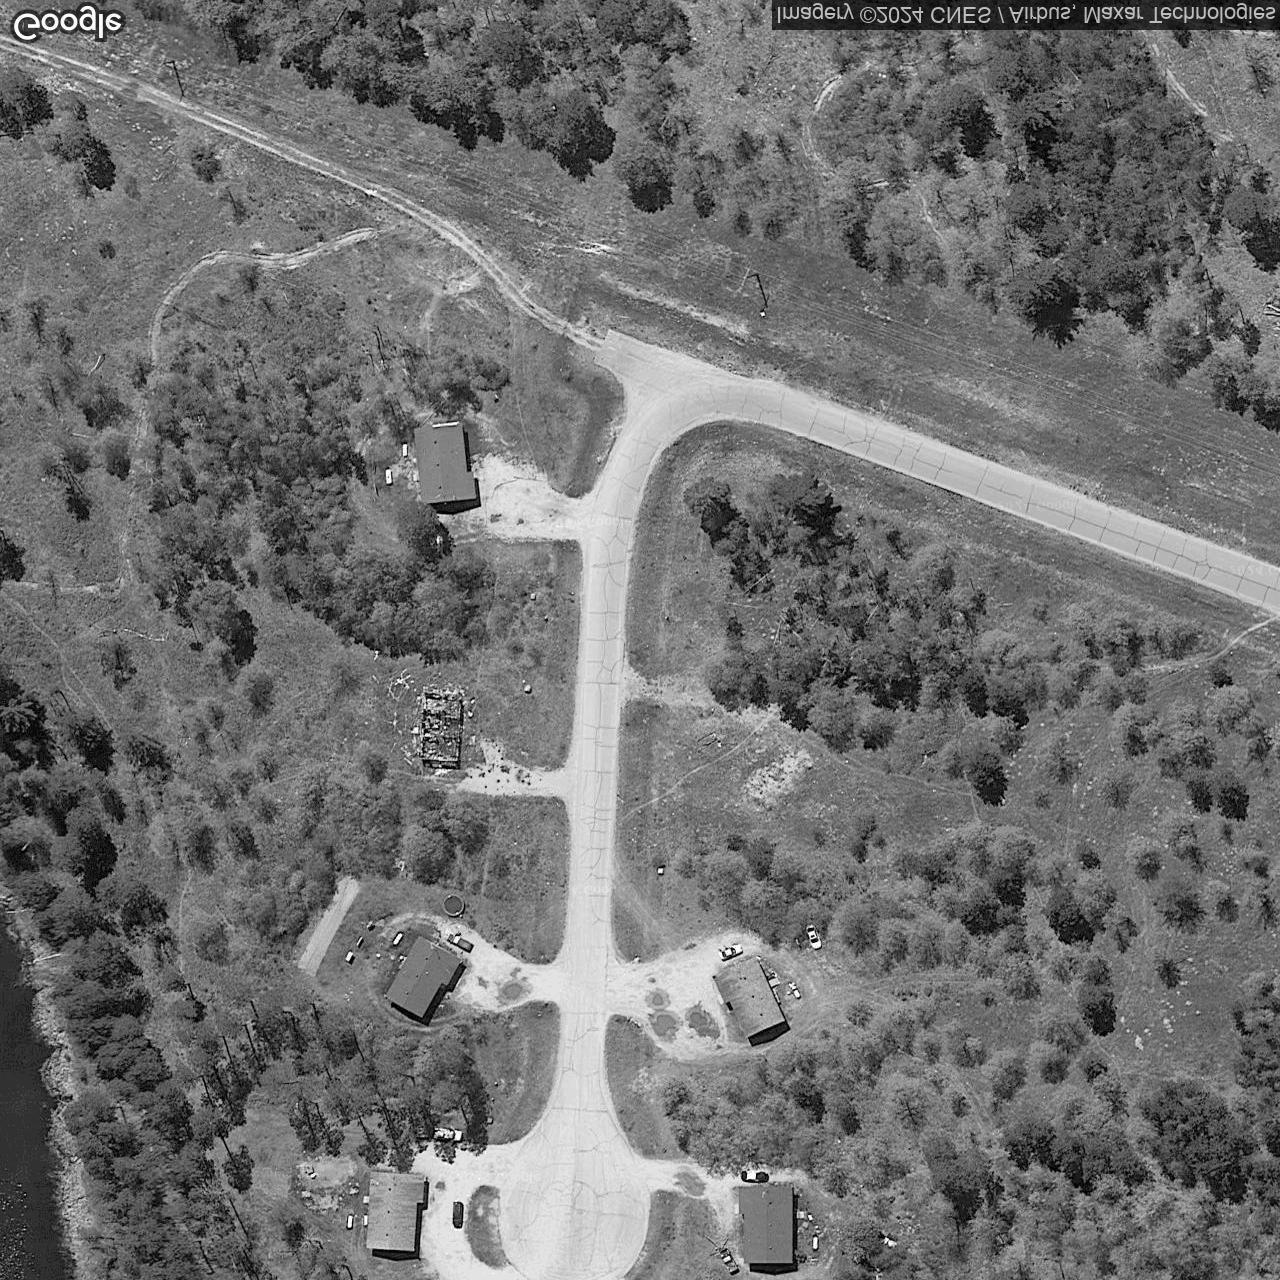House: (383, 933, 462, 1020), (710, 954, 788, 1041), (411, 421, 477, 504), (366, 1171, 425, 1253), (736, 1183, 795, 1265)
Propane: (390, 930, 407, 949), (384, 467, 395, 488), (791, 986, 803, 1001), (401, 440, 409, 459), (811, 1234, 819, 1253), (346, 1213, 354, 1231)
